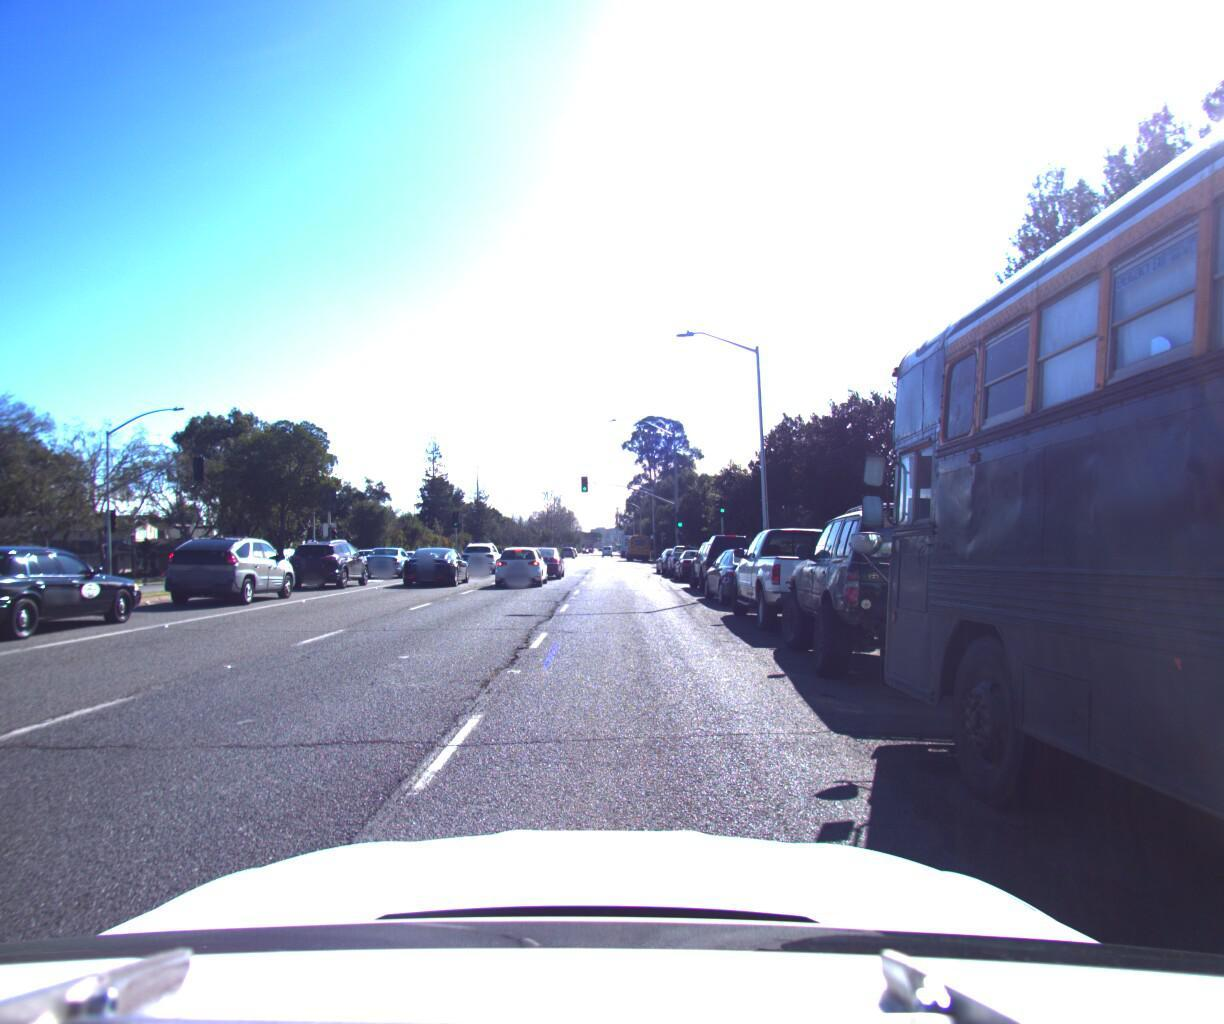car: (776, 489, 1030, 698), (726, 513, 897, 635), (148, 525, 307, 608), (697, 538, 801, 604), (282, 533, 377, 586), (686, 524, 763, 588), (400, 536, 473, 582), (493, 533, 551, 577), (454, 528, 505, 565), (672, 539, 723, 577), (518, 536, 568, 573), (363, 538, 415, 573), (665, 535, 711, 573), (256, 539, 301, 565)
